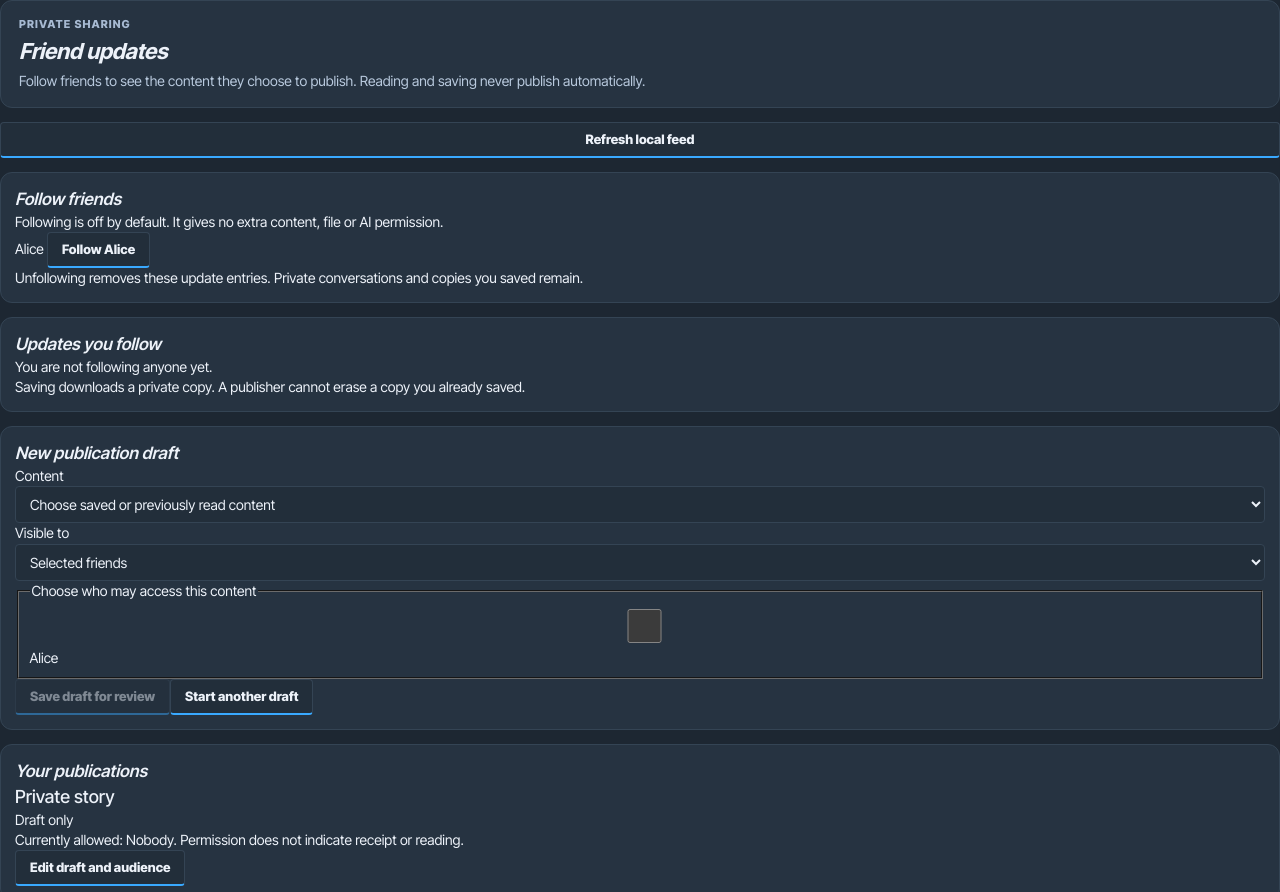
restores a saved draft for editing and prevents publishing unsaved audience changes
Click the button "Edit draft and audience".
click(100, 868)  # box left=15, top=850, right=186, bottom=886
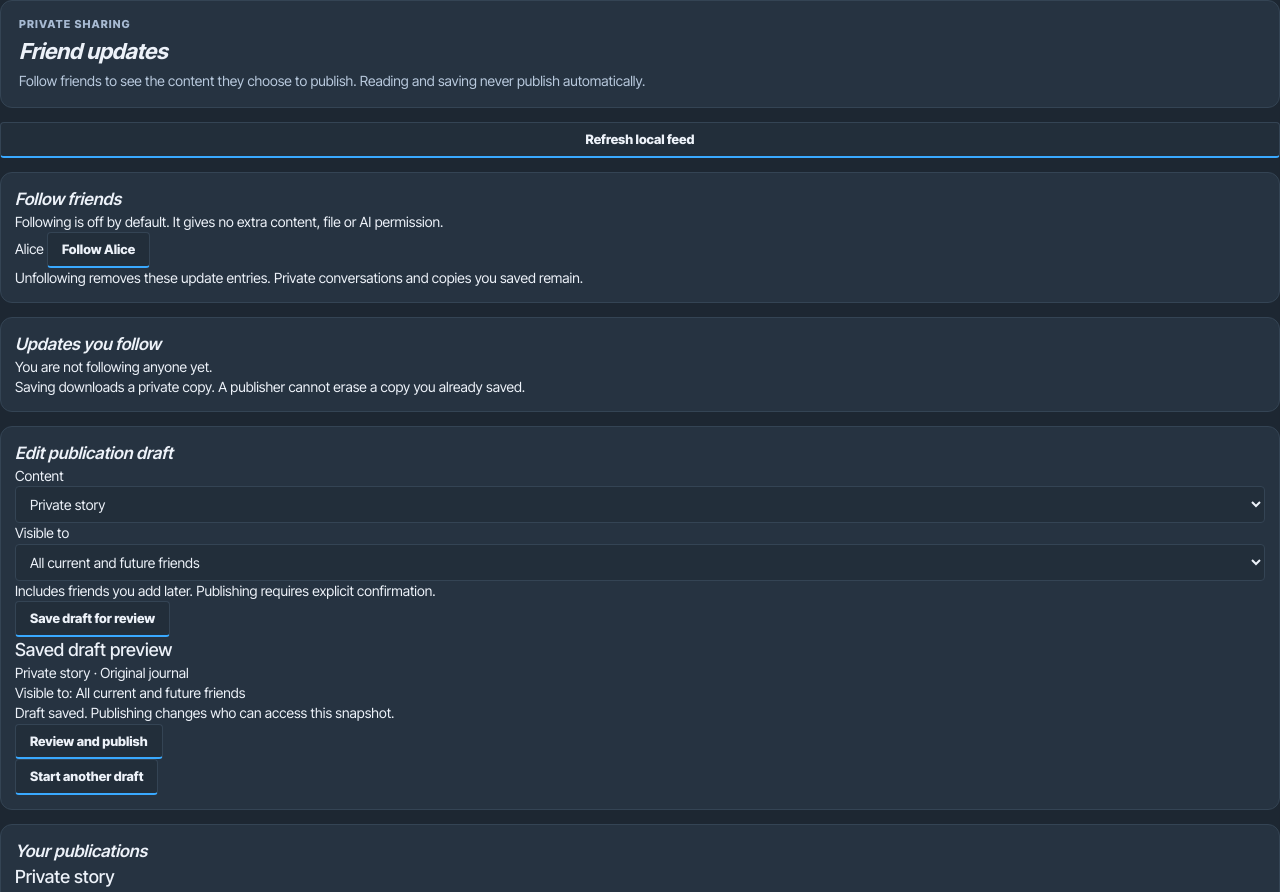
Expected: the dropdown named "Publication content" shows "Private story", left=15, top=486, right=1265, bottom=523
Expected: the button "Review and publish" is enabled, left=15, top=724, right=163, bottom=759
Select "Selected friends" in the dropdown named "Publication audience" at (640, 562), box left=15, top=544, right=1265, bottom=580
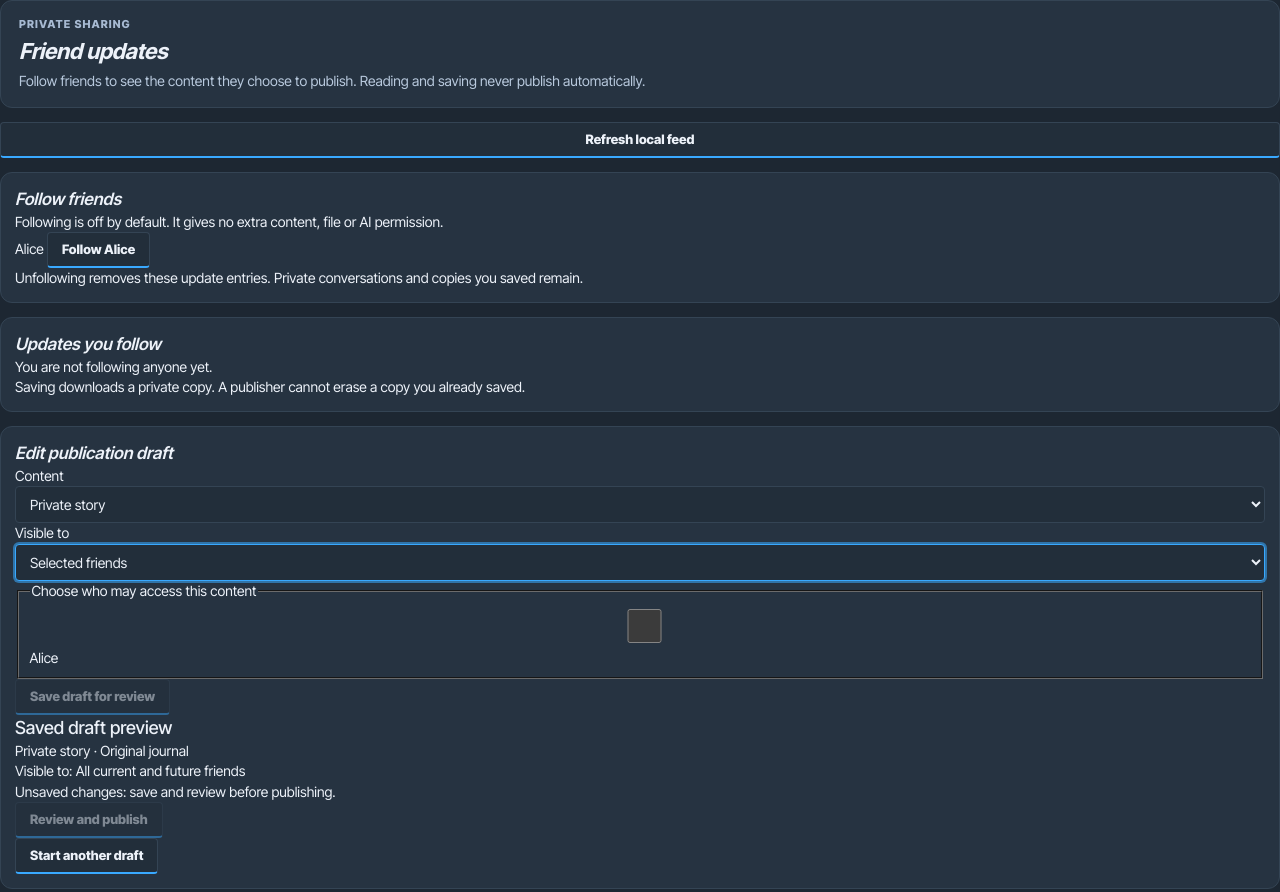
Expected: the button "Review and publish" is disabled, left=15, top=802, right=163, bottom=838
